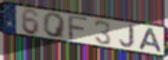3: (93, 19, 112, 46)
6: (20, 8, 41, 37)
A: (138, 27, 164, 54)
F: (67, 15, 90, 42)
J: (118, 24, 135, 48)
Q: (42, 12, 67, 40)
